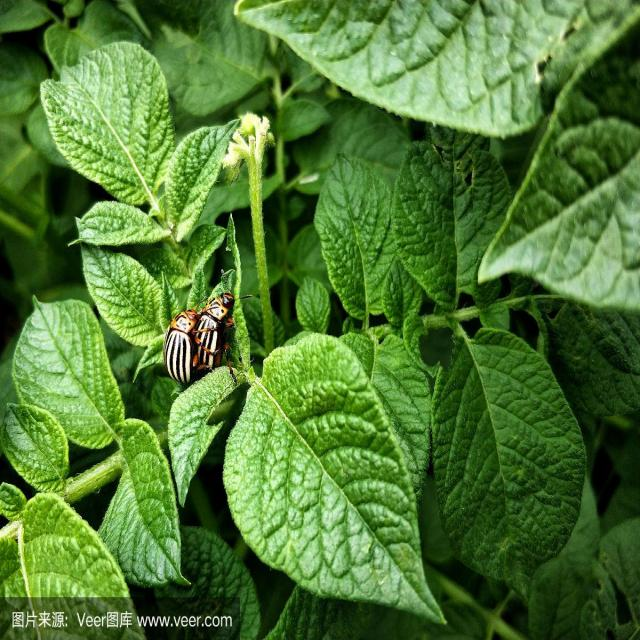ShuCaiHuaBanChong-Grown-: (198, 286, 238, 382), (169, 306, 195, 394)
